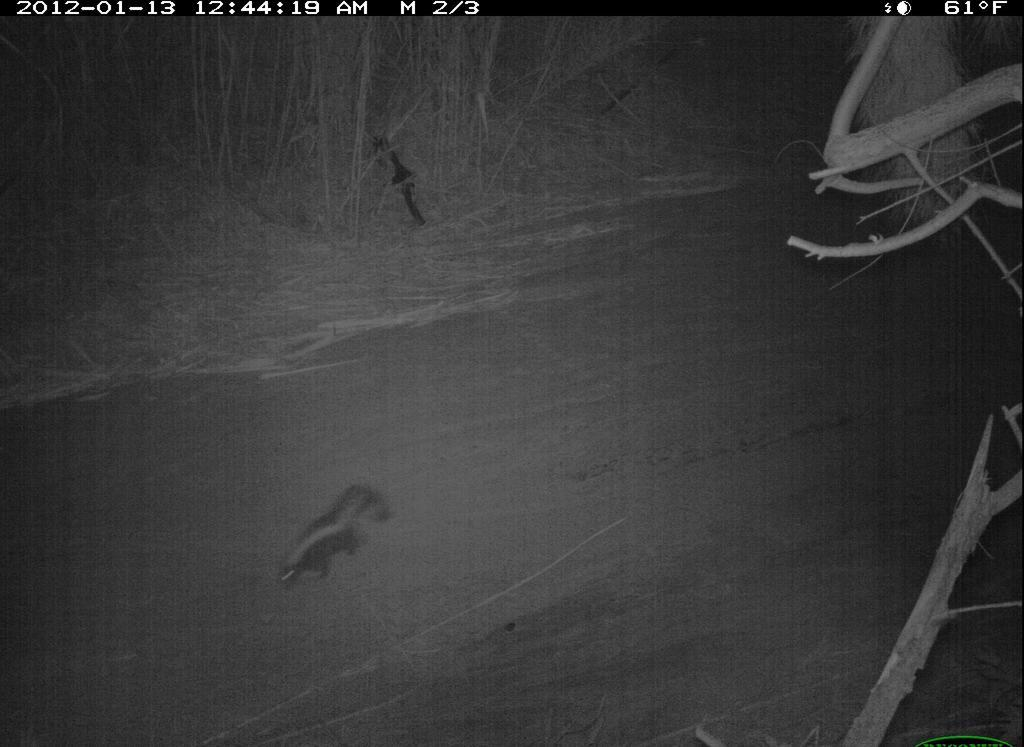skunk: (263, 478, 401, 597)
